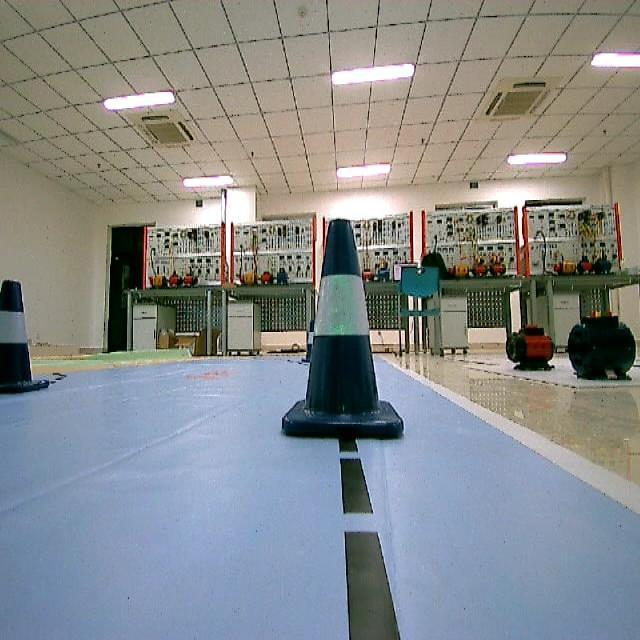obstacle: (280, 239, 410, 446), (0, 273, 51, 400)
